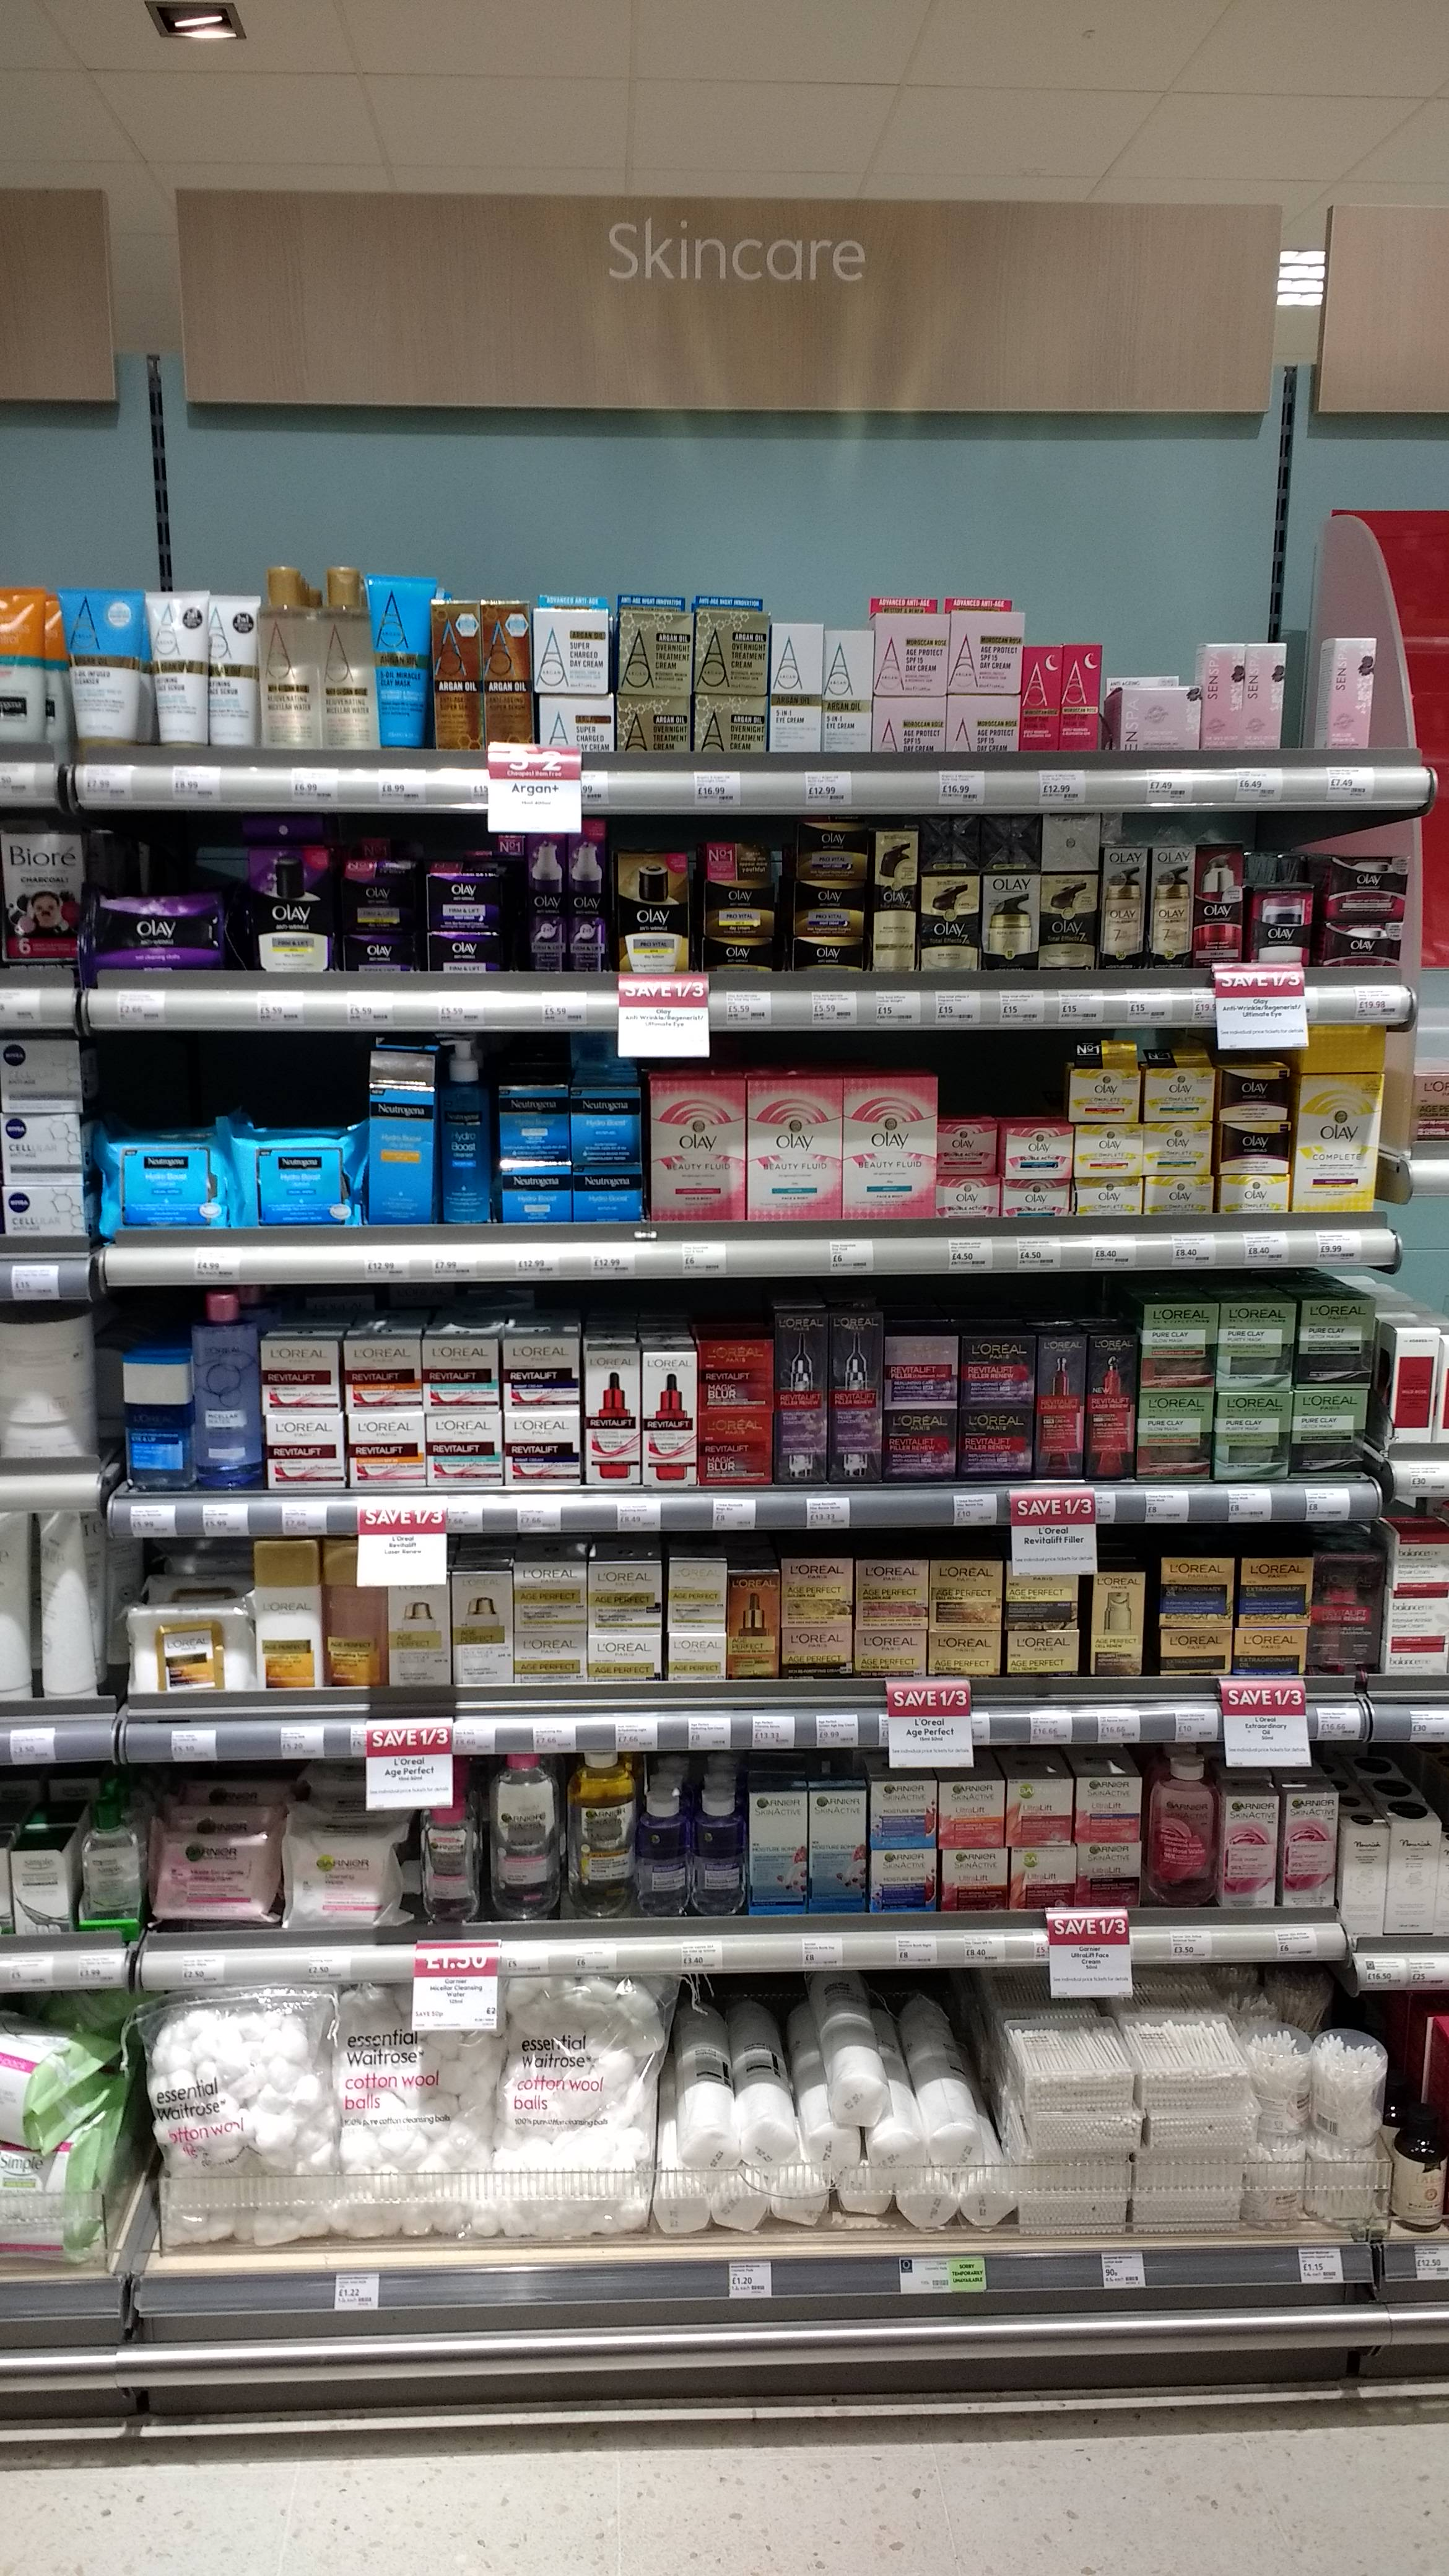Misplacement: (934, 1113, 1005, 1217)
